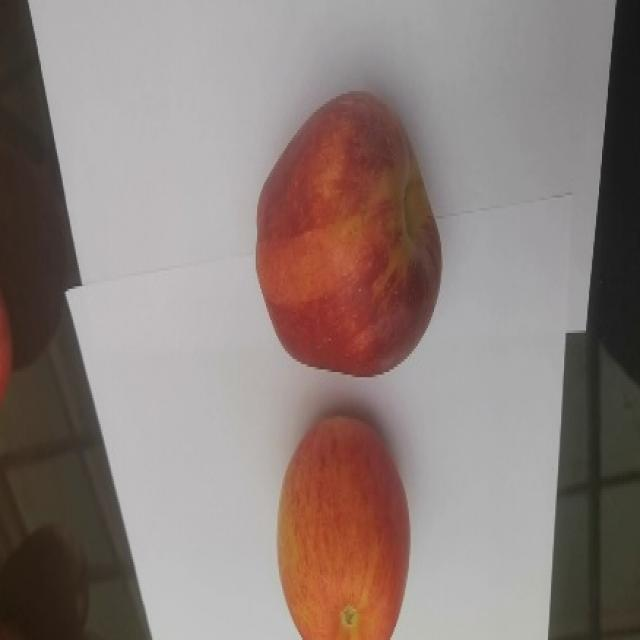Apple: (254, 89, 443, 377), (276, 414, 411, 639)
